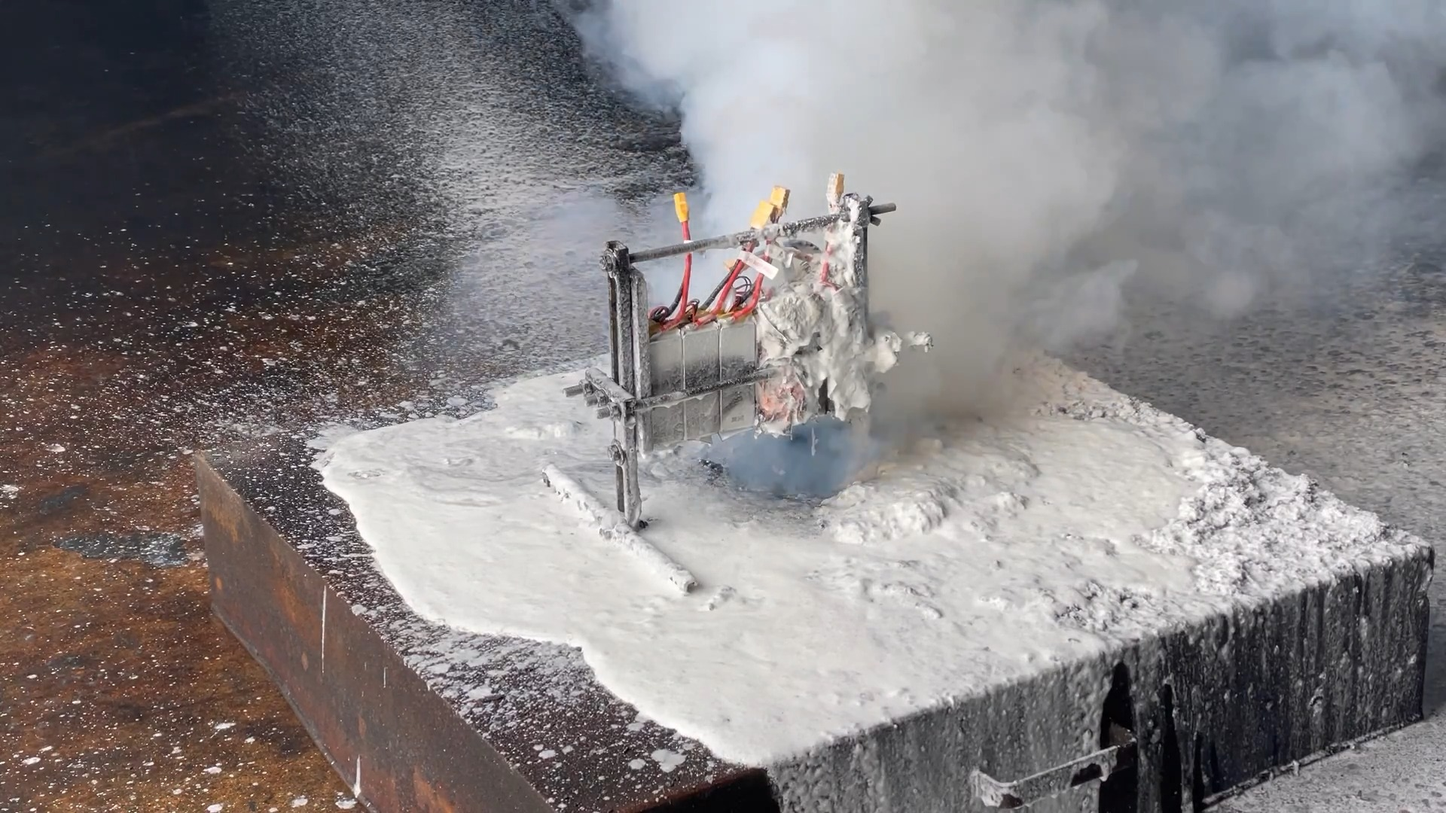smoke: (557, 0, 1445, 480)
